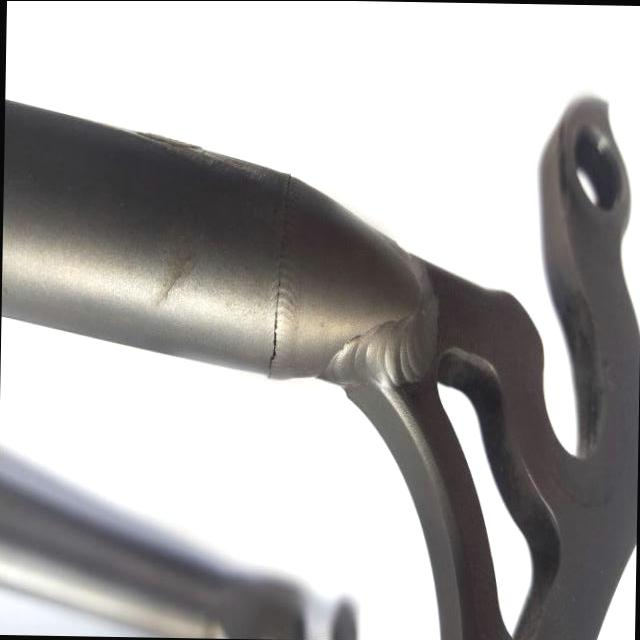defect: (267, 171, 290, 382)
